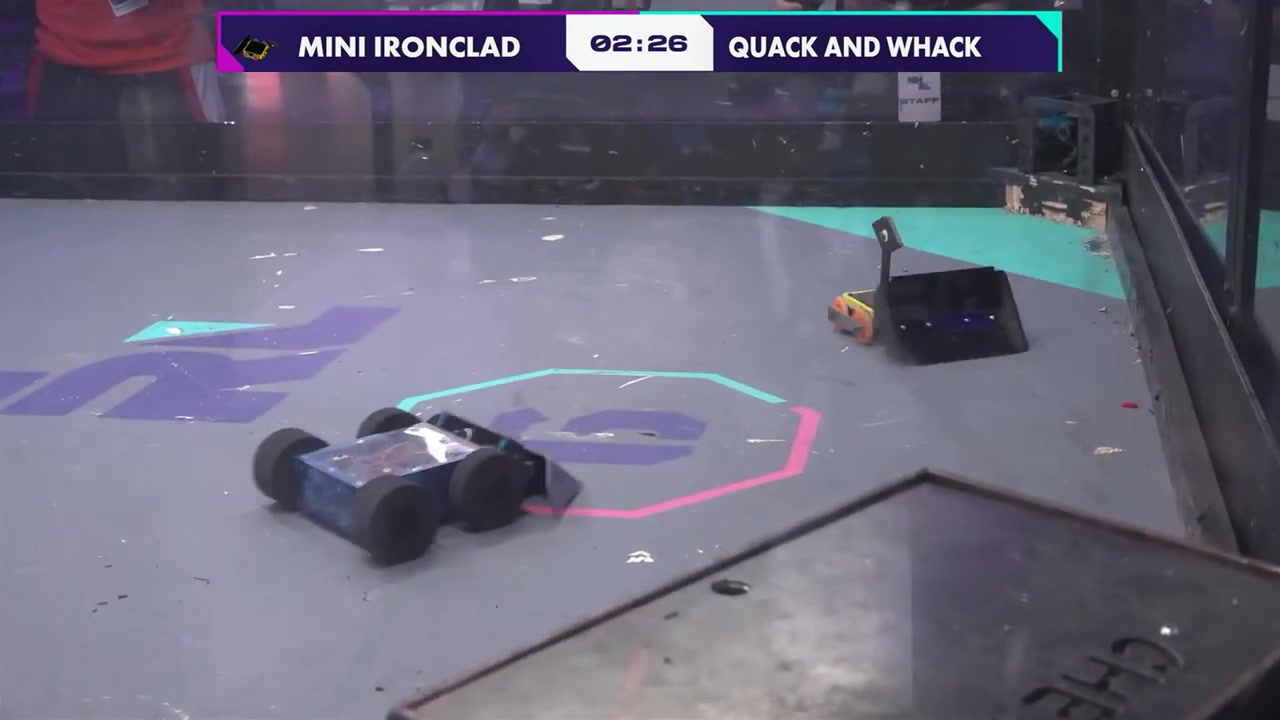combatbot: (253, 409, 579, 559), (828, 216, 1031, 366)
housebot: (390, 470, 1280, 720)
